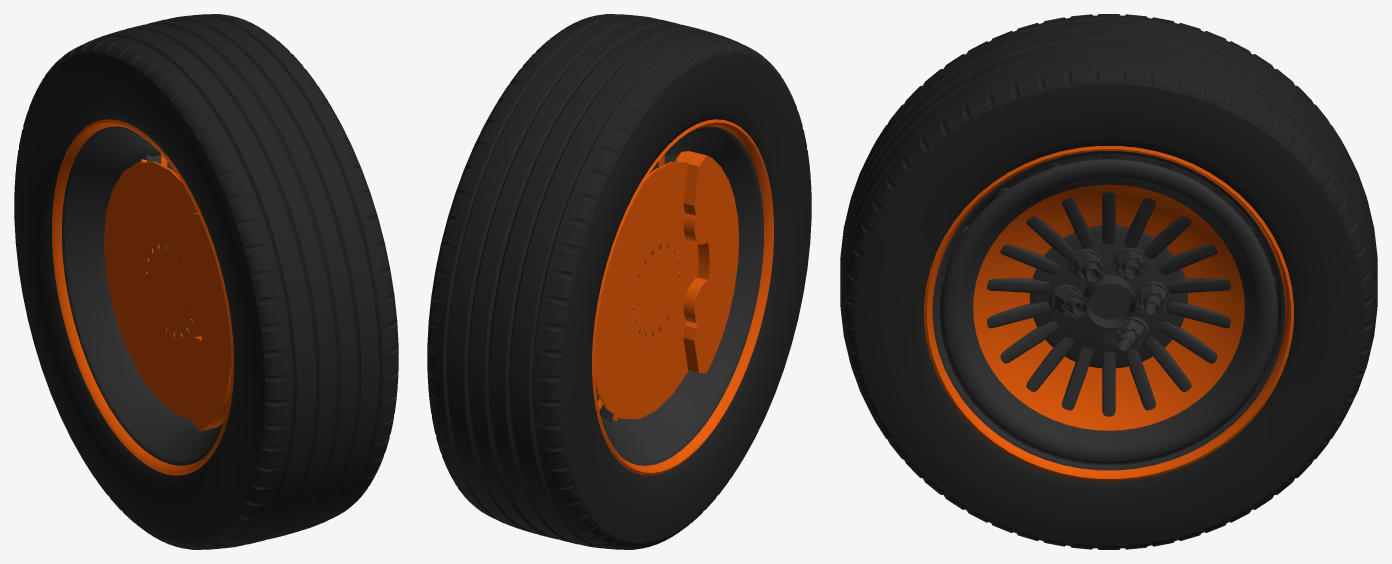
The model's file is wheel_left.glb.
The picture shows the model from 3 angles, left to right: view 1: azimuth 30°, elevation 25°; view 2: azimuth 150°, elevation 25°; view 3: azimuth 270°, elevation 25°; orthographic projection.
Parts seen in each view (by area): view 1: wheel_rear_left; view 2: wheel_rear_left; view 3: wheel_rear_left.
Part boxes in pixels (left/top/right/bottom): wheel_rear_left: left=14, top=14, right=398, bottom=549; wheel_rear_left: left=427, top=14, right=811, bottom=549; wheel_rear_left: left=840, top=14, right=1377, bottom=549.
Size of the model in its own units: 0.1744 by 0.5754 by 0.5754.
